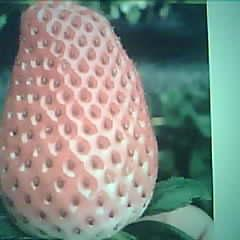straw-ripe: (3, 1, 158, 240)
